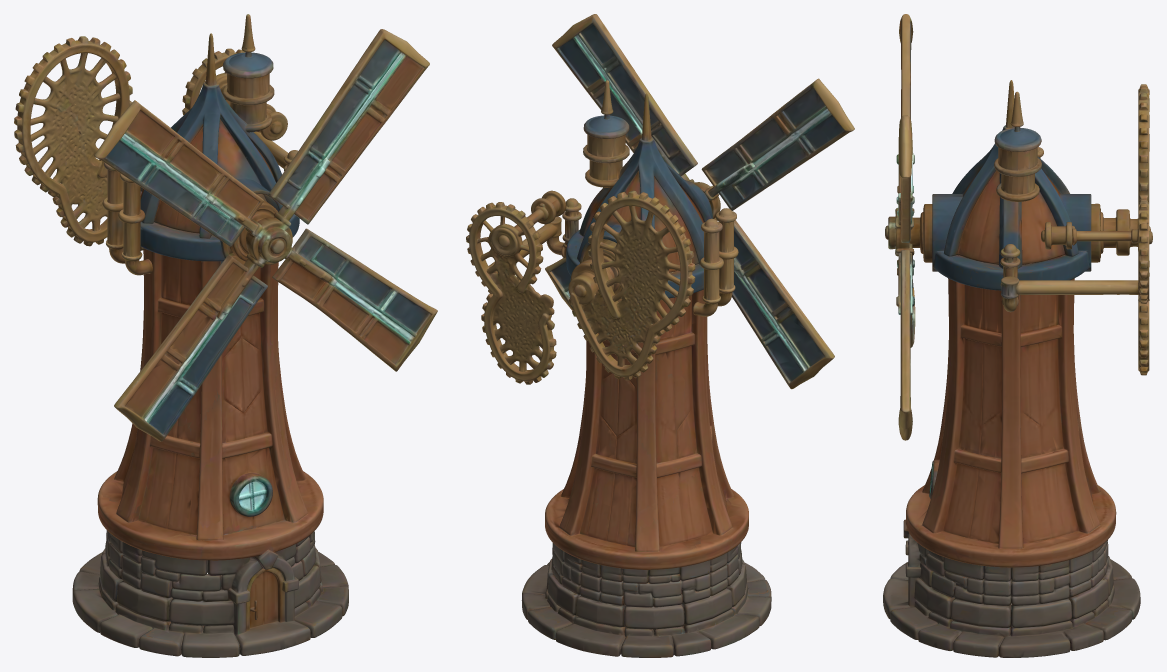
Rendered from windmill.glb.
3 renders of one model, left to right at view 1: azimuth 30°, elevation 25°; view 2: azimuth 150°, elevation 25°; view 3: azimuth 270°, elevation 25°, orthographic. The views are drawn at different scales.
Visible parts, largest first — view 1: material; view 2: material; view 3: material.
Boxes of the visible parts, box(x1,y1,x2,y2) form: material: box(14, 14, 437, 657); material: box(466, 14, 854, 657); material: box(883, 14, 1152, 657).
Size of the model in its own units: 0.6383 by 1.04 by 0.4715.
Materials: 1 (1 with a texture image).
